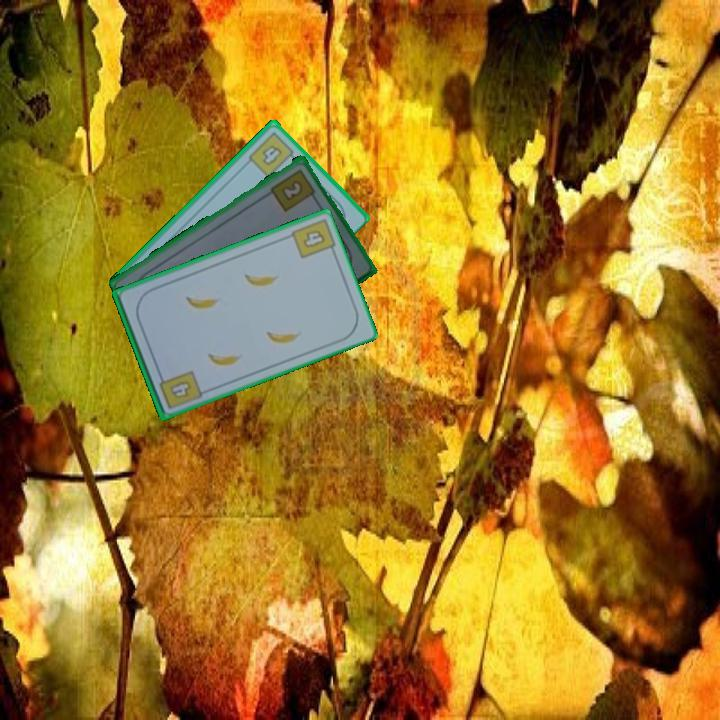2b: (267, 165, 319, 214)
4b: (244, 128, 300, 180), (155, 367, 203, 412), (300, 226, 328, 251)
